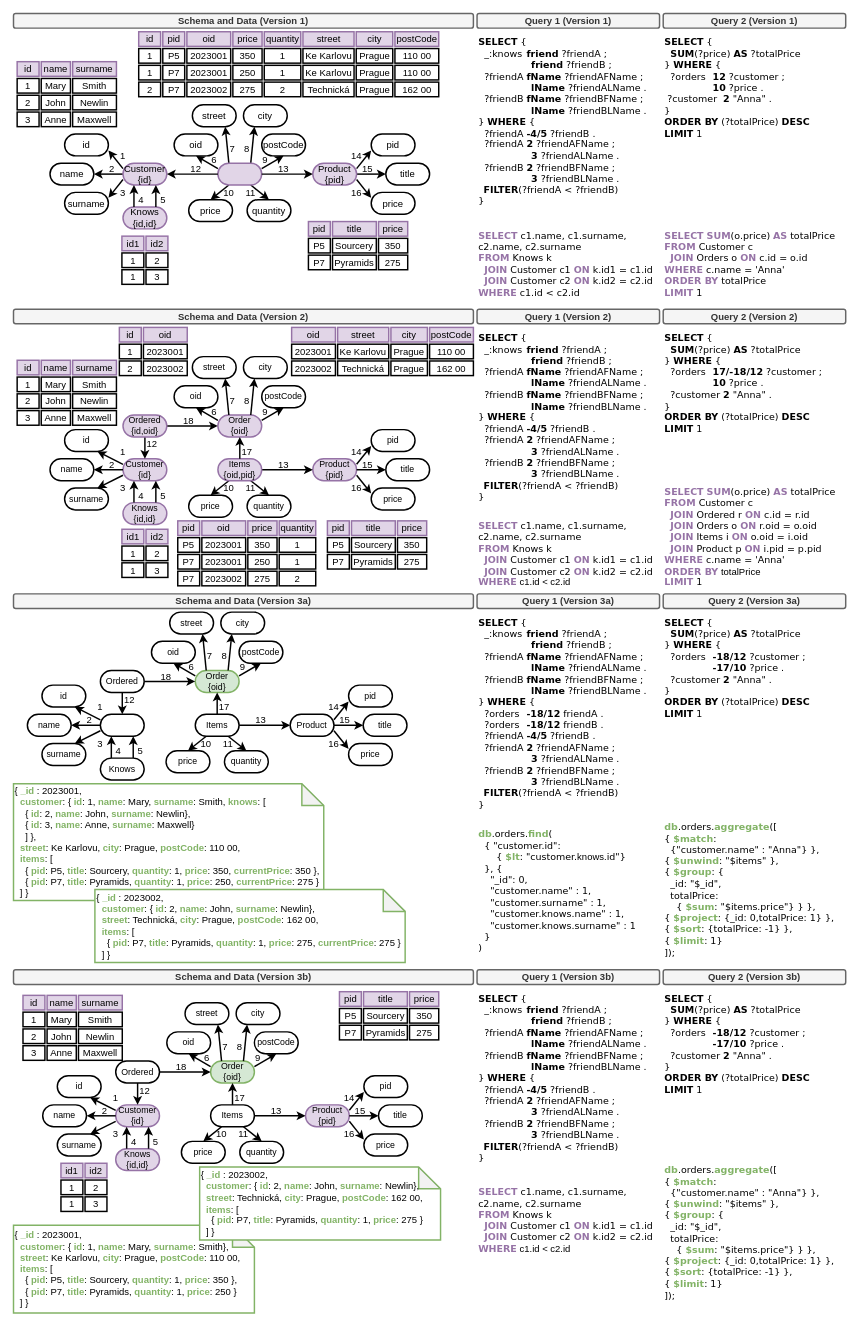
Image size: 858x1326. Some labels were removed from this diagram. The shapes that lost their labels are listed below. From the top down, each one's centre as x and y in pixels, then its label:
point (239, 173): Orders {id,pid}
point (122, 725): Customer
